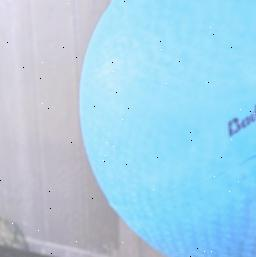algae: (79, 0, 256, 257)
